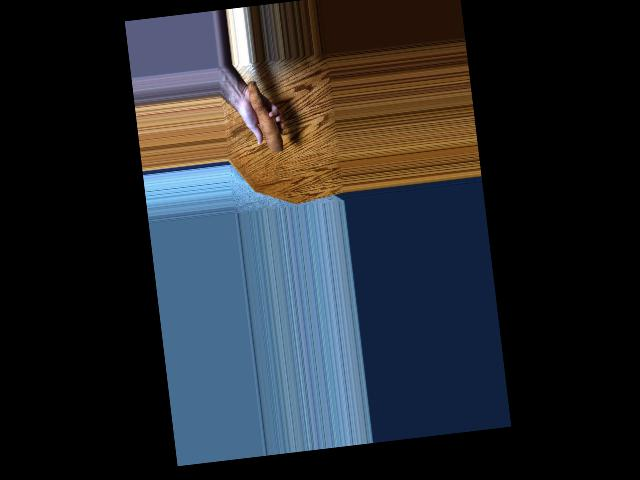sweet_potato: (246, 70, 286, 155)
